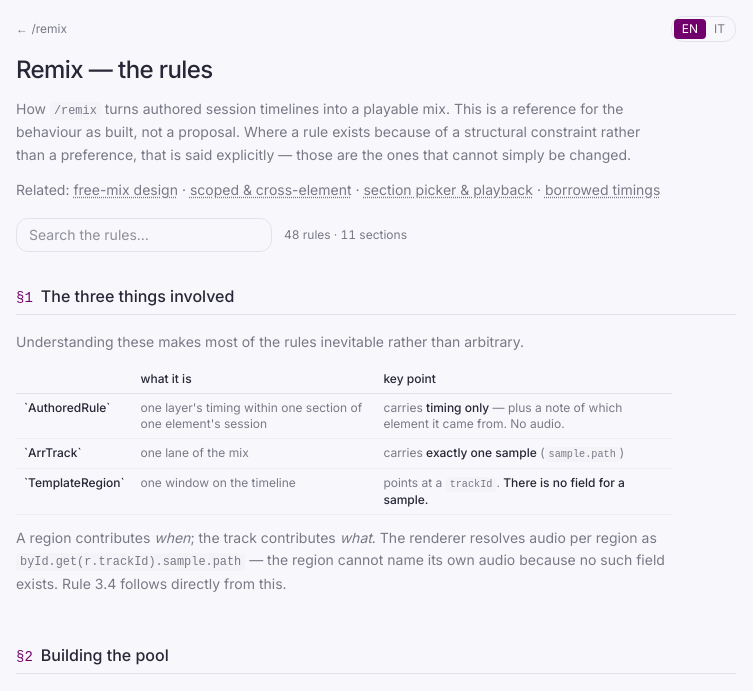
Test: RulebookPage › says so plainly when nothing matches
The image size is (753, 691).
Type "zzzznotarule" into the search field labelled "Search the rules…".
click(144, 235); type("zzzznotarule")  # box [16,218,272,252]
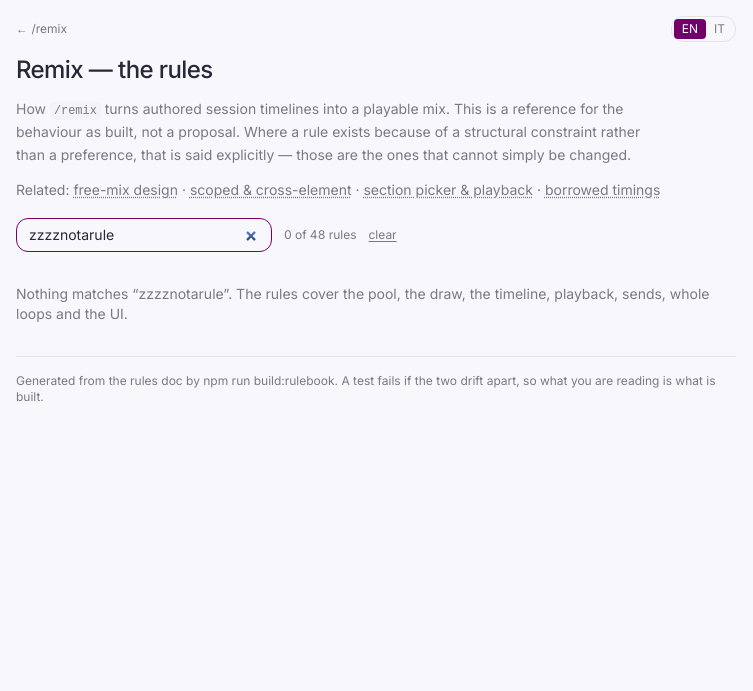
Now the text "Nothing matches" is shown, box [16,285,710,322]
